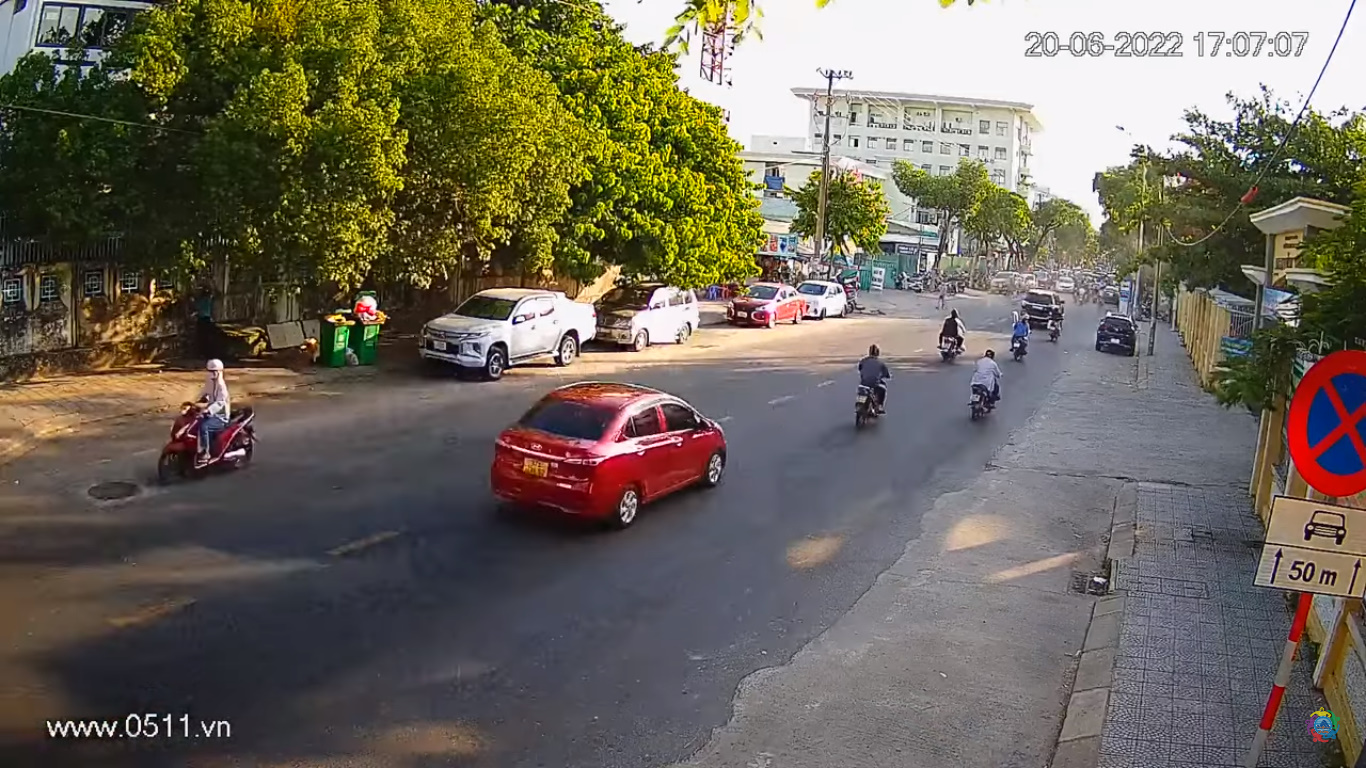car: (492, 380, 731, 532)
